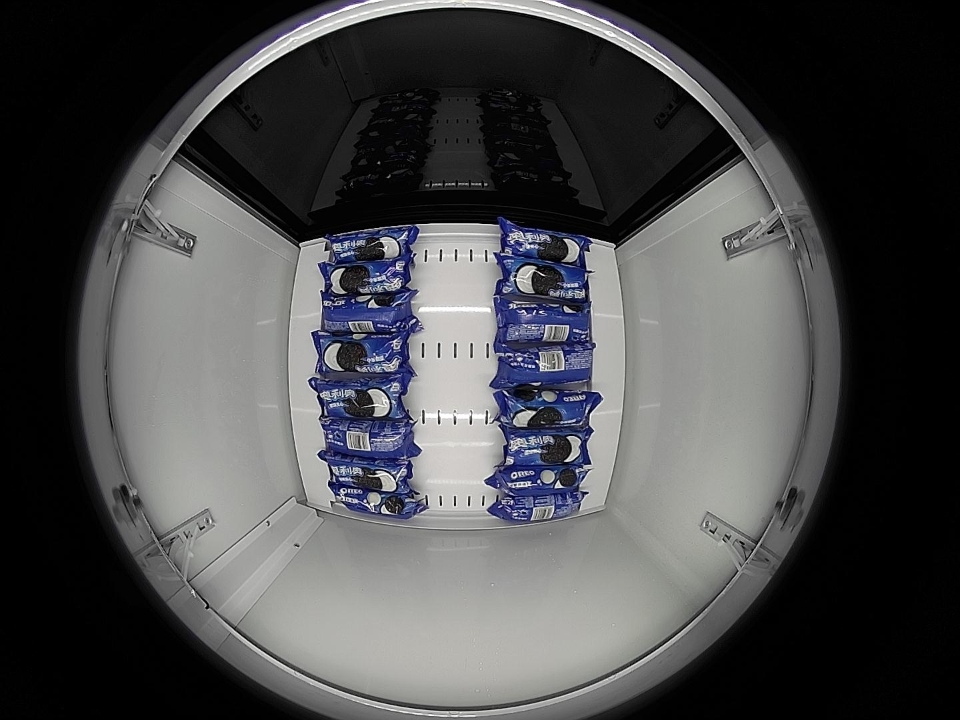aoliao: (496, 297, 596, 343), (495, 344, 597, 388), (497, 389, 597, 433), (498, 221, 588, 268), (310, 332, 405, 375), (309, 378, 403, 420), (316, 293, 414, 333), (498, 259, 592, 300), (323, 226, 419, 261), (316, 420, 408, 456), (501, 434, 594, 468), (318, 259, 408, 294), (319, 455, 407, 490), (494, 464, 587, 495), (494, 493, 584, 523), (330, 492, 418, 520)
